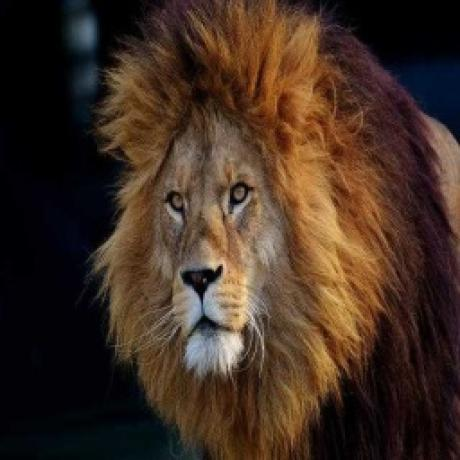Lion: (87, 0, 460, 460)
